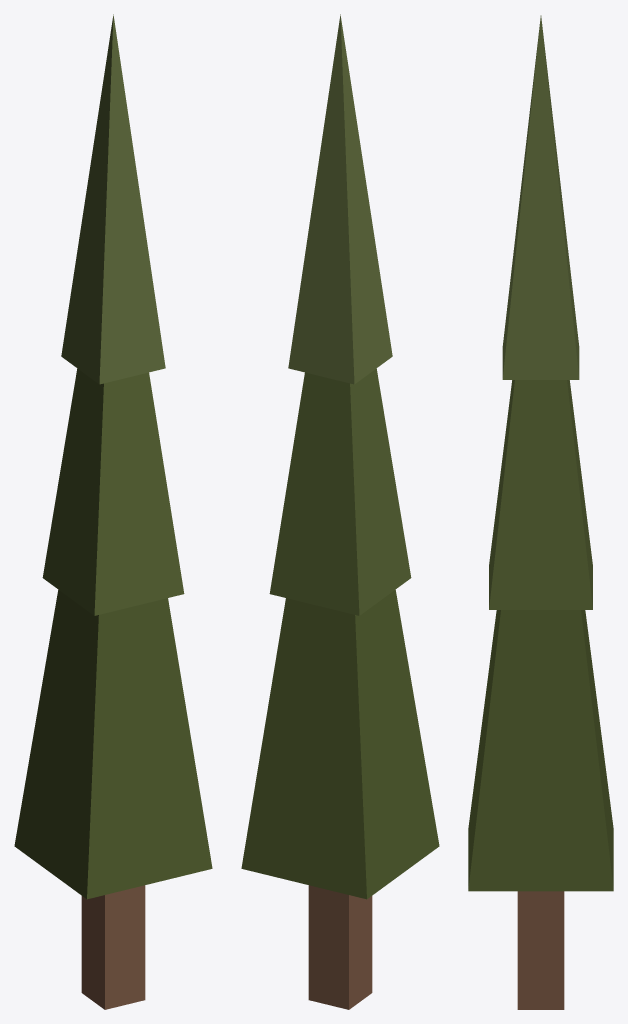
File: fir_tree_31.fbx
The picture shows the model from 3 angles, left to right: view 1: azimuth 30°, elevation 25°; view 2: azimuth 150°, elevation 25°; view 3: azimuth 270°, elevation 25°; orthographic projection.
Parts seen in each view (by area): view 1: fir_tree_31; view 2: fir_tree_31; view 3: fir_tree_31.
Part boxes in pixels (left/top/right/bottom): fir_tree_31: left=14, top=14, right=212, bottom=1009; fir_tree_31: left=241, top=14, right=439, bottom=1009; fir_tree_31: left=468, top=15, right=613, bottom=1009.
Bounding box in the file's own units: 73.68 × 551 × 73.68.
